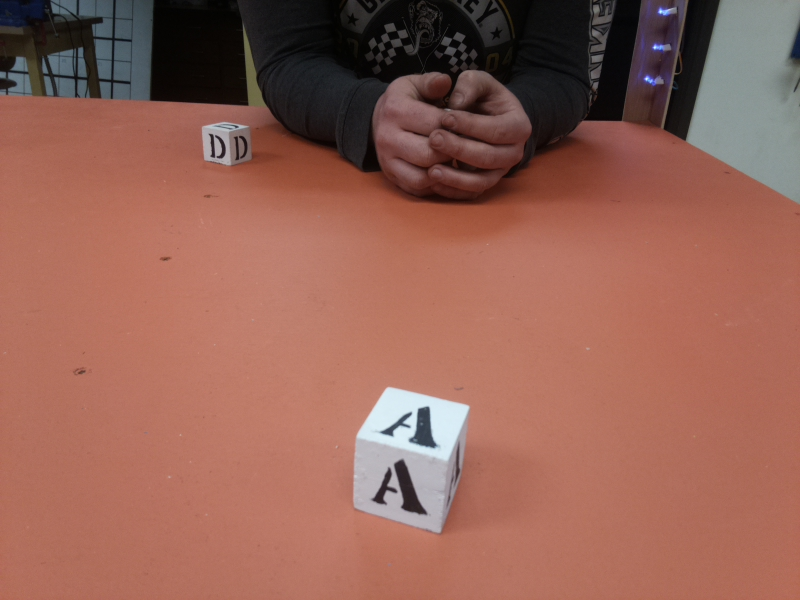blockA: (352, 389, 482, 537)
blockD: (200, 120, 253, 166)
corner: (617, 1, 693, 135)
